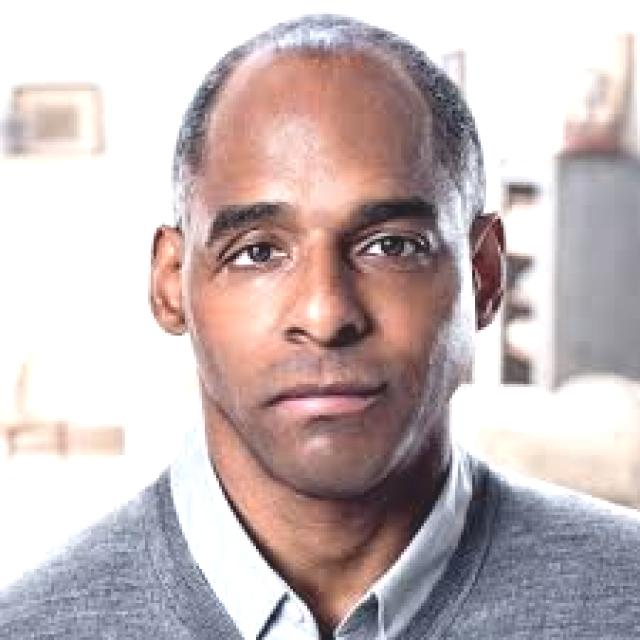stroke_face: (182, 26, 480, 485)
